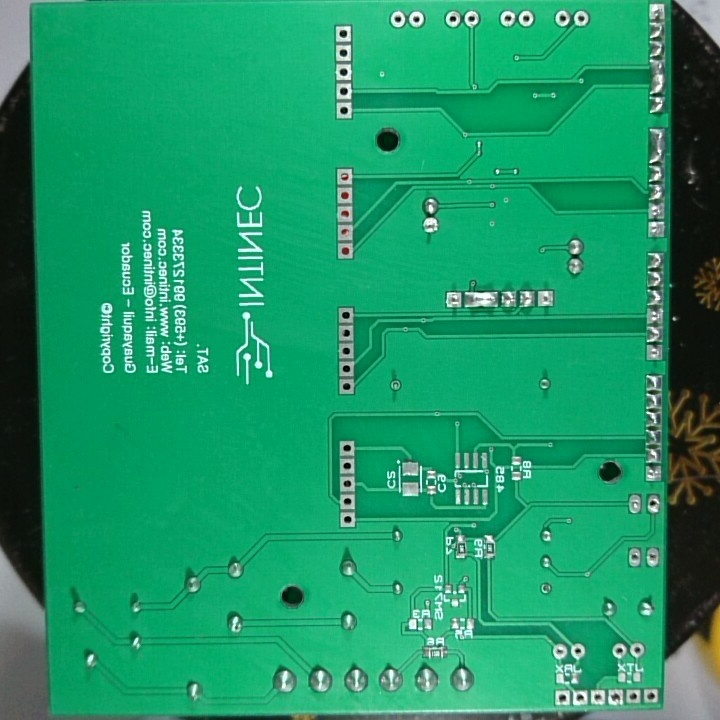F: (516, 5, 536, 32), (536, 288, 558, 312), (445, 6, 462, 32), (333, 23, 355, 43), (444, 289, 464, 311), (407, 9, 427, 31), (647, 1, 667, 23), (642, 685, 661, 708), (588, 686, 607, 709), (645, 546, 661, 573), (499, 6, 516, 31), (627, 491, 644, 516), (337, 440, 359, 459), (462, 9, 480, 32), (421, 216, 441, 236), (335, 100, 354, 121), (550, 640, 569, 661), (568, 641, 587, 662), (573, 8, 590, 31), (336, 203, 356, 222), (647, 220, 666, 240), (335, 80, 353, 101), (624, 686, 642, 707), (336, 306, 357, 324), (605, 689, 627, 706), (553, 8, 570, 30), (538, 579, 554, 602), (334, 43, 353, 62), (554, 687, 573, 706), (648, 201, 667, 220), (335, 168, 353, 188), (646, 342, 664, 362), (629, 639, 646, 660), (627, 546, 642, 569), (335, 63, 354, 81), (610, 640, 628, 659), (337, 455, 356, 473), (337, 378, 356, 396), (336, 186, 354, 205), (646, 306, 664, 325), (644, 463, 661, 483), (389, 8, 404, 30), (339, 492, 357, 510), (571, 689, 590, 706), (339, 475, 358, 492), (337, 242, 356, 259), (336, 222, 353, 241), (647, 492, 661, 515), (387, 376, 405, 393), (339, 512, 358, 528), (337, 343, 356, 359), (337, 325, 355, 341), (338, 361, 356, 376)
P: (647, 123, 668, 165), (462, 289, 497, 310), (648, 58, 667, 95)
